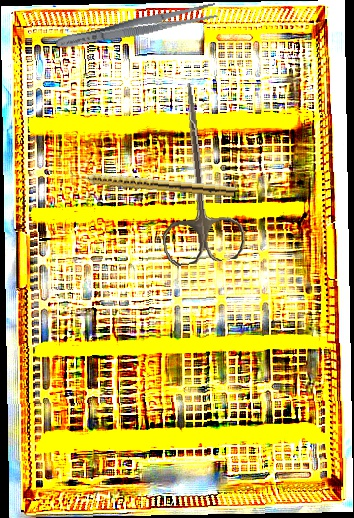Dressing Forceps: (53, 0, 219, 54)
Handpiece: (68, 168, 236, 198)
Iris Scissors: (144, 78, 248, 268)
